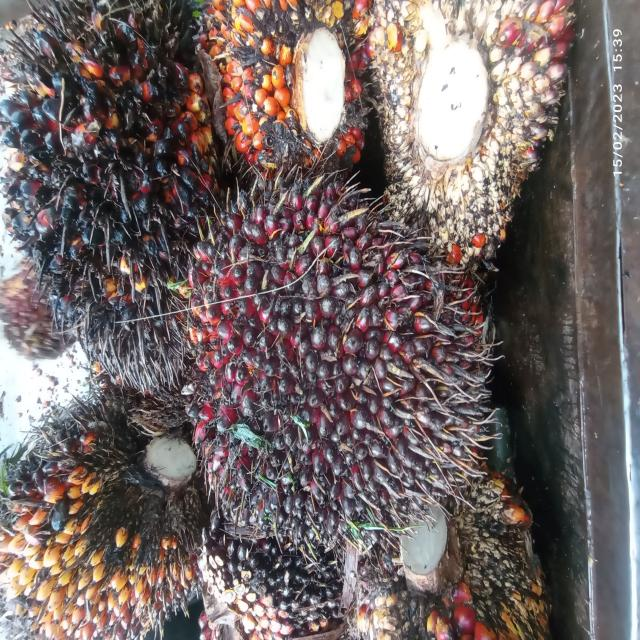fraksi 00: (11, 8, 208, 374)
fraksi 1: (158, 152, 520, 556)
fraksi 4: (9, 434, 234, 640), (214, 0, 378, 159)
